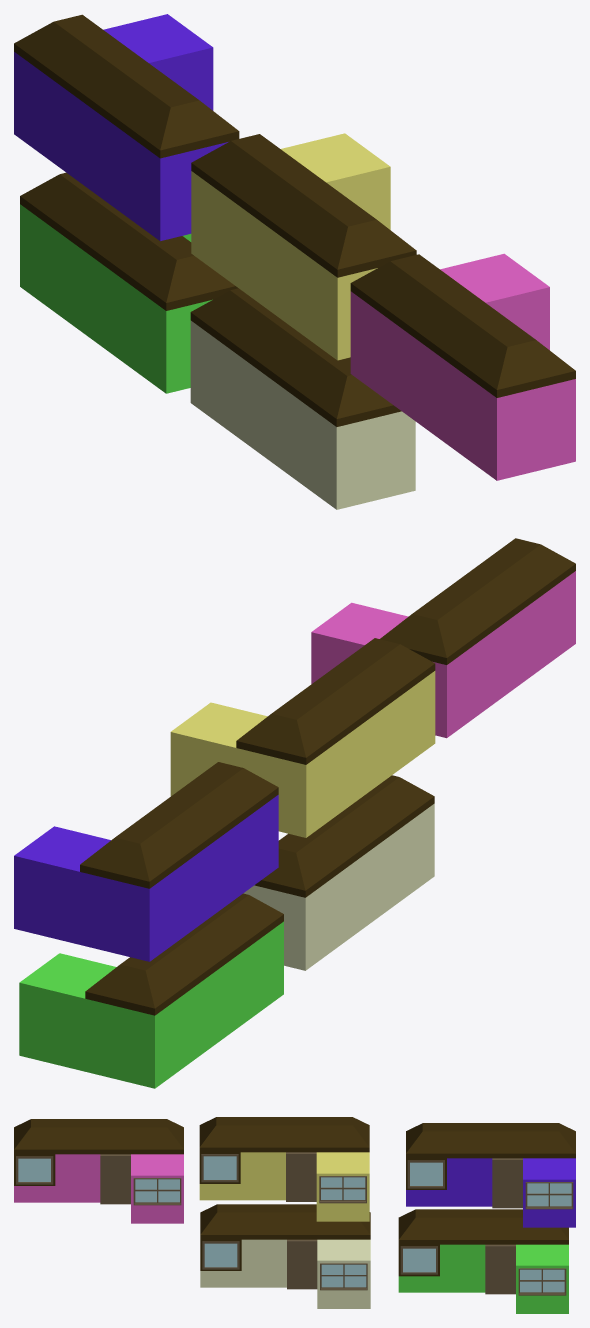
File: Gouse.fbx
3 views of the same model, one above another, from view 1: azimuth 30°, elevation 25°; view 2: azimuth 150°, elevation 25°; view 3: azimuth 270°, elevation 25° (orthographic). The views are drawn at different scales.
Parts seen in each view (by area): view 1: Cube.004, Cube.002, Cube.003, Cube, Cube.001; view 2: Cube.002, Cube.001, Cube.003, Cube.004, Cube; view 3: Cube.003, Cube.002, Cube.004, Cube.001, Cube.
Part boxes in pixels (x1,y1,x2,y2): Cube.004: [350, 253, 575, 480]; Cube.002: [14, 14, 239, 241]; Cube.003: [191, 133, 416, 360]; Cube: [190, 288, 415, 509]; Cube.001: [20, 172, 238, 393]; Cube.002: [14, 762, 278, 961]; Cube.001: [19, 893, 283, 1088]; Cube.003: [170, 638, 435, 837]; Cube.004: [311, 538, 575, 738]; Cube: [243, 775, 434, 970]; Cube.003: [199, 1117, 369, 1221]; Cube.002: [406, 1123, 575, 1227]; Cube.004: [14, 1119, 183, 1223]; Cube.001: [398, 1209, 568, 1313]; Cube: [200, 1204, 370, 1308].
Size of the model in its own units: 7607 by 12868 by 40853.
